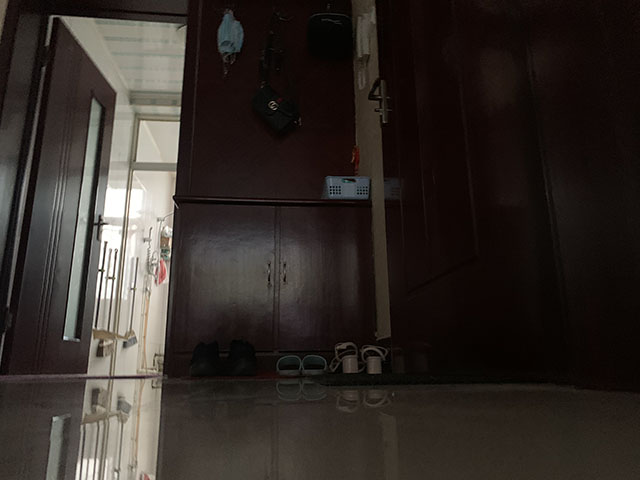cabinet: (161, 1, 376, 378)
carpet: (1, 373, 157, 380)
slippers: (275, 354, 329, 378)
